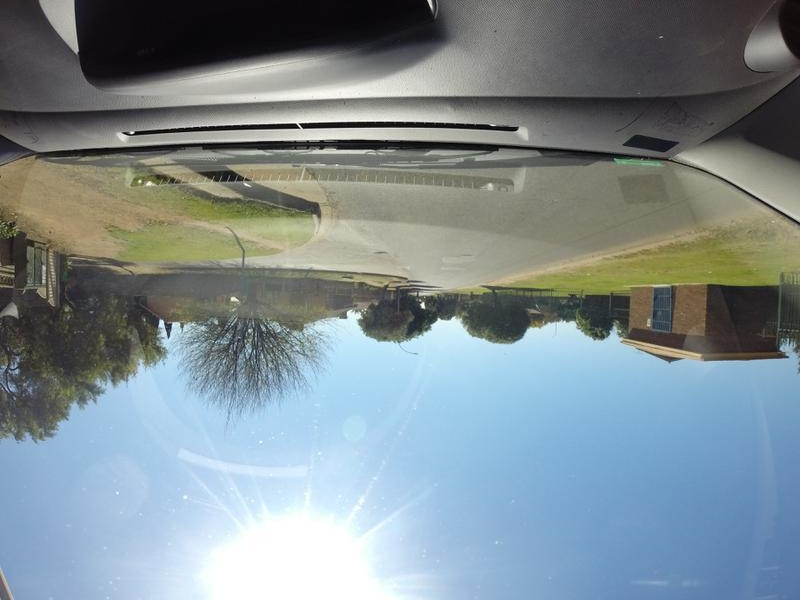pothole: (378, 247, 392, 257), (461, 252, 476, 257)
